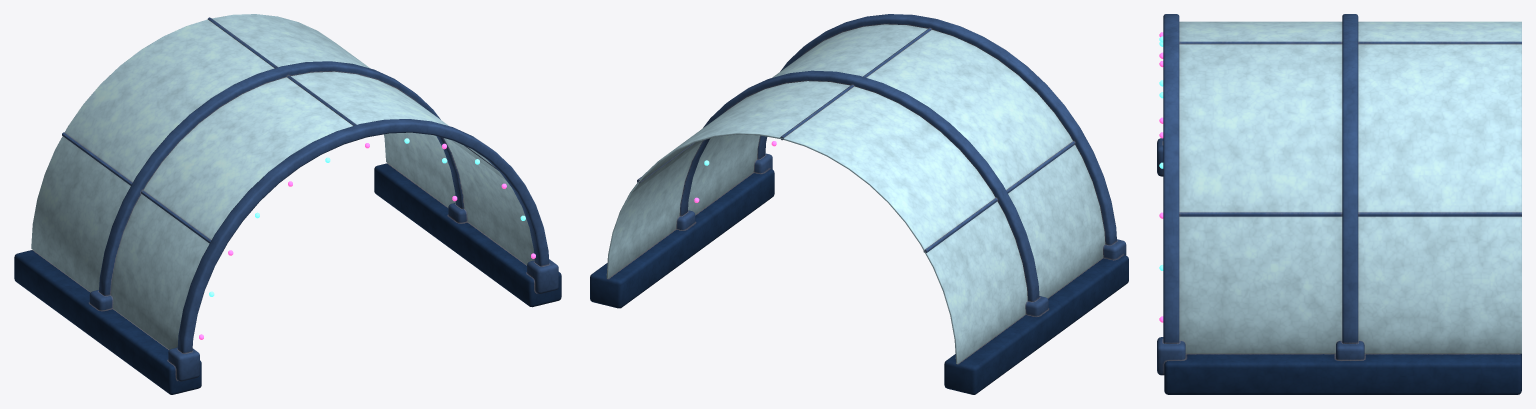
The model's file is mu_glass_tunnel_segment.glb.
3 renders of one model, left to right at view 1: azimuth 30°, elevation 25°; view 2: azimuth 150°, elevation 25°; view 3: azimuth 270°, elevation 25°, orthographic. The views are drawn at different scales.
Visible parts, largest first — view 1: mu_glass_tunnel_segment; view 2: mu_glass_tunnel_segment; view 3: mu_glass_tunnel_segment.
Boxes of the visible parts, <box> form: mu_glass_tunnel_segment: <box>14,14,561,394</box>; mu_glass_tunnel_segment: <box>590,14,1128,394</box>; mu_glass_tunnel_segment: <box>1157,14,1521,394</box>.
Bounding box in the file's own units: 14.4 × 7.75 × 10.2.
5 materials, 5 textured.
